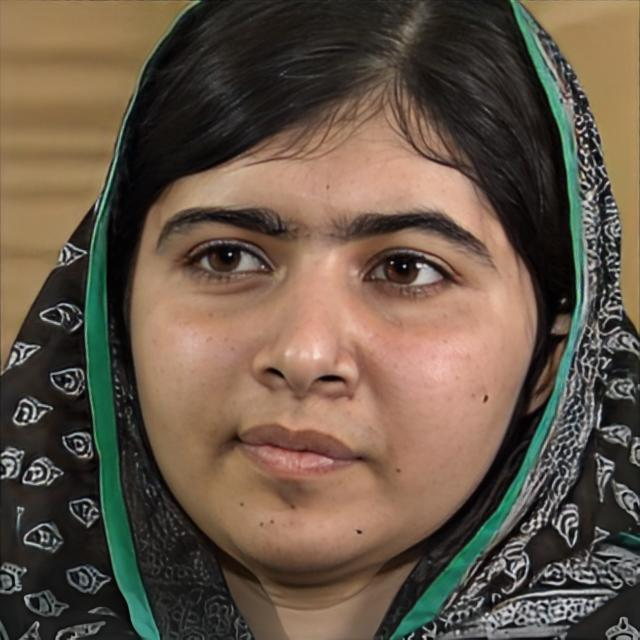neutral: (126, 68, 542, 570)
